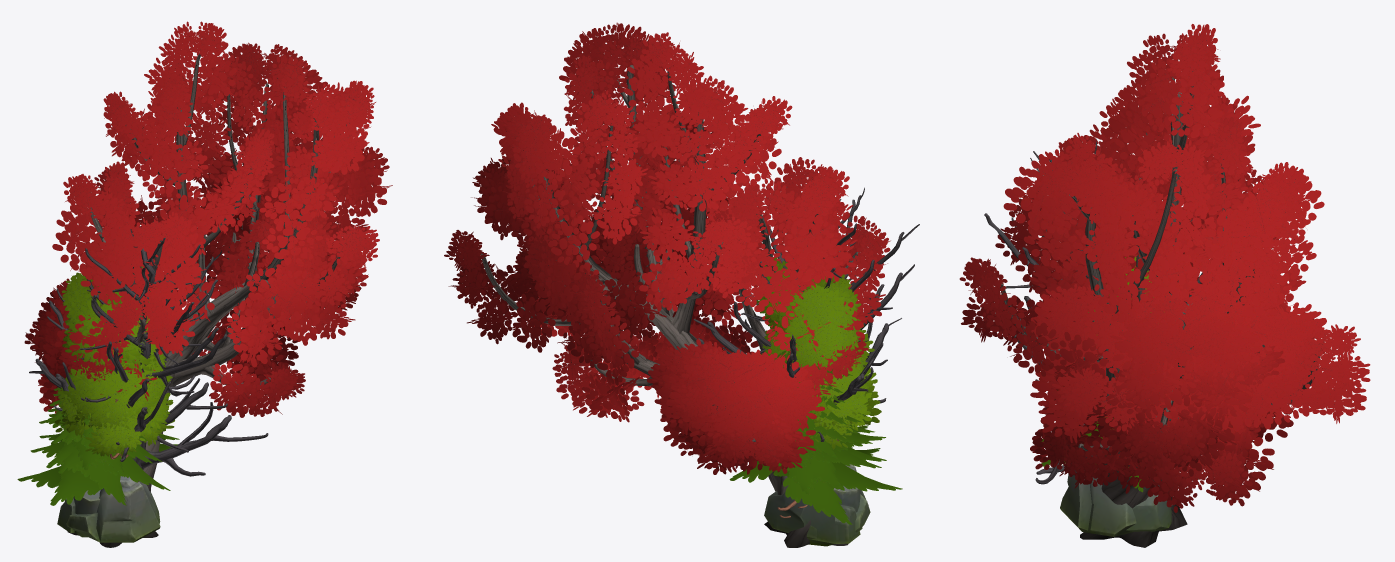
Rendered from nature.glb.
The picture shows the model from 3 angles, left to right: view 1: azimuth 30°, elevation 25°; view 2: azimuth 150°, elevation 25°; view 3: azimuth 270°, elevation 25°; orthographic projection. The views are drawn at different scales.
Visible parts, largest first — view 1: TwistedTree_1, DeadTree_2, Pine_2, CommonTree_3, Rock_Medium_1, CommonTree_1, DeadTree_1, CommonTree_2, Pine_1, CommonTree_4, Rock_Medium_2; view 2: TwistedTree_1, Pine_2, CommonTree_3, Rock_Medium_2, CommonTree_4, DeadTree_2, CommonTree_1, Pine_1, CommonTree_2, DeadTree_1, Pine_3, Rock_Medium_1; view 3: TwistedTree_1, Rock_Medium_1, Rock_Medium_2, DeadTree_2.
Boxes of the visible parts, bbox=[...] form: TwistedTree_1: bbox=[24, 21, 392, 547]; DeadTree_2: bbox=[55, 221, 268, 476]; Pine_2: bbox=[17, 358, 179, 505]; CommonTree_3: bbox=[61, 282, 172, 432]; Rock_Medium_1: bbox=[66, 476, 160, 542]; CommonTree_1: bbox=[54, 349, 174, 456]; DeadTree_1: bbox=[29, 276, 227, 452]; CommonTree_2: bbox=[57, 342, 173, 459]; Pine_1: bbox=[30, 354, 162, 481]; CommonTree_4: bbox=[65, 266, 156, 355]; Rock_Medium_2: bbox=[57, 490, 100, 537]; TwistedTree_1: bbox=[444, 22, 890, 547]; Pine_2: bbox=[729, 357, 902, 524]; CommonTree_3: bbox=[764, 261, 874, 430]; Rock_Medium_2: bbox=[764, 486, 862, 543]; CommonTree_4: bbox=[756, 257, 861, 379]; DeadTree_2: bbox=[693, 187, 919, 441]; CommonTree_1: bbox=[761, 330, 881, 449]; Pine_1: bbox=[774, 350, 886, 510]; CommonTree_2: bbox=[762, 328, 880, 440]; DeadTree_1: bbox=[698, 244, 884, 441]; Pine_3: bbox=[779, 365, 874, 518]; Rock_Medium_1: bbox=[806, 464, 870, 546]; TwistedTree_1: bbox=[959, 24, 1370, 547]; Rock_Medium_1: bbox=[1060, 470, 1136, 536]; Rock_Medium_2: bbox=[1126, 494, 1171, 531]; DeadTree_2: bbox=[984, 138, 1202, 484].
Size of the model in its own units: 14.23 by 16.86 by 11.55.
7 materials, 7 textured.
